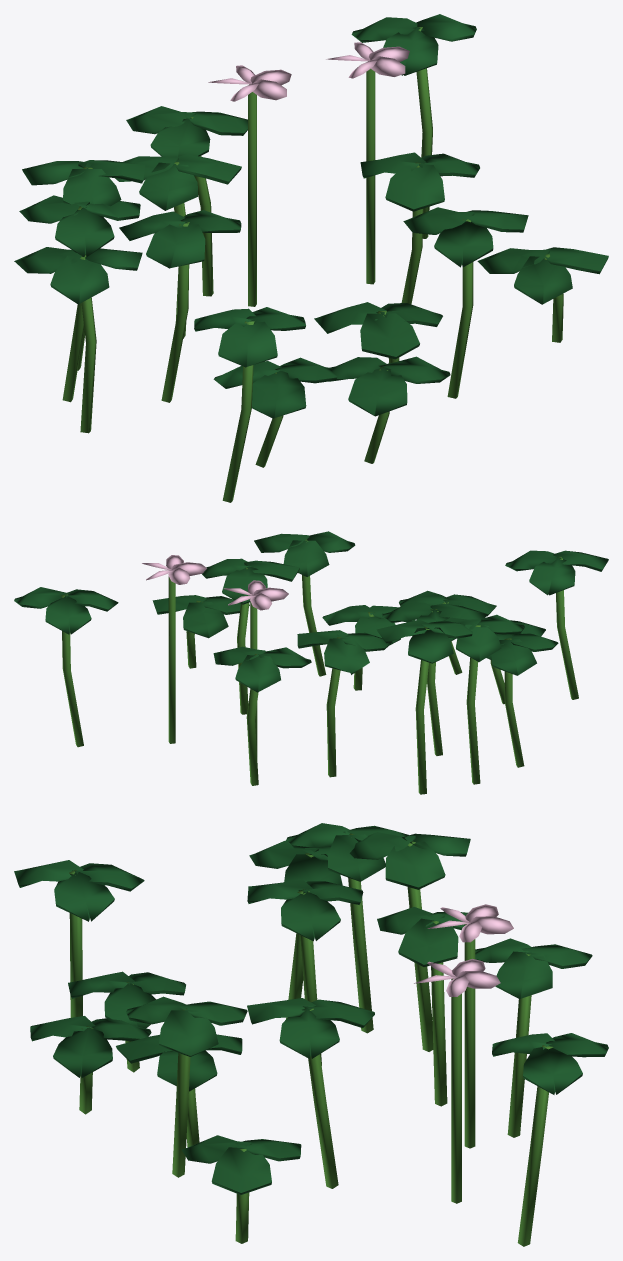
The model's file is canopy_gc_oxalis_b.glb.
3 views of the same model, one above another, from view 1: azimuth 30°, elevation 25°; view 2: azimuth 150°, elevation 25°; view 3: azimuth 270°, elevation 25° (orthographic). The views are drawn at different scales.
Parts seen in each view (by area): view 1: canopy_gc_oxalis_b; view 2: canopy_gc_oxalis_b; view 3: canopy_gc_oxalis_b.
Part boxes in pixels (box(x1,y1,x2,y2)): canopy_gc_oxalis_b: box(14, 14, 608, 502); canopy_gc_oxalis_b: box(14, 531, 608, 794); canopy_gc_oxalis_b: box(14, 823, 608, 1246).
Size of the model in its own units: 3.69 by 1.43 by 3.35.
